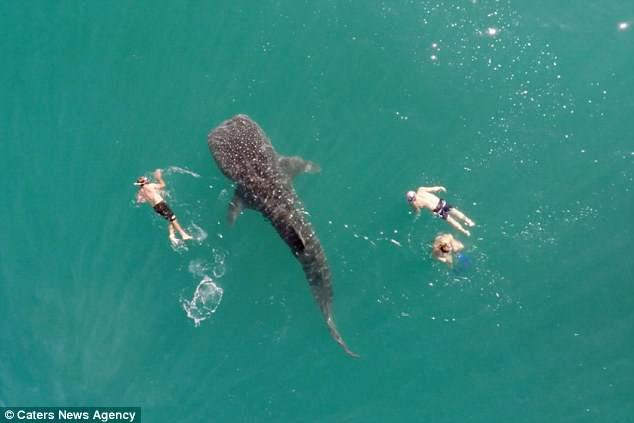swimmer: (130, 167, 191, 249), (406, 182, 477, 234), (430, 228, 463, 272)
